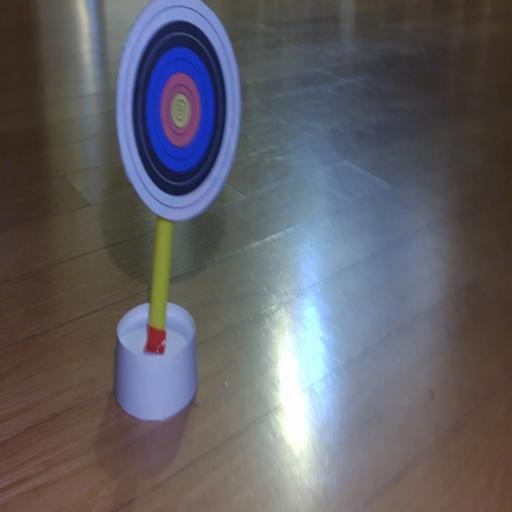target: (116, 0, 240, 221)
